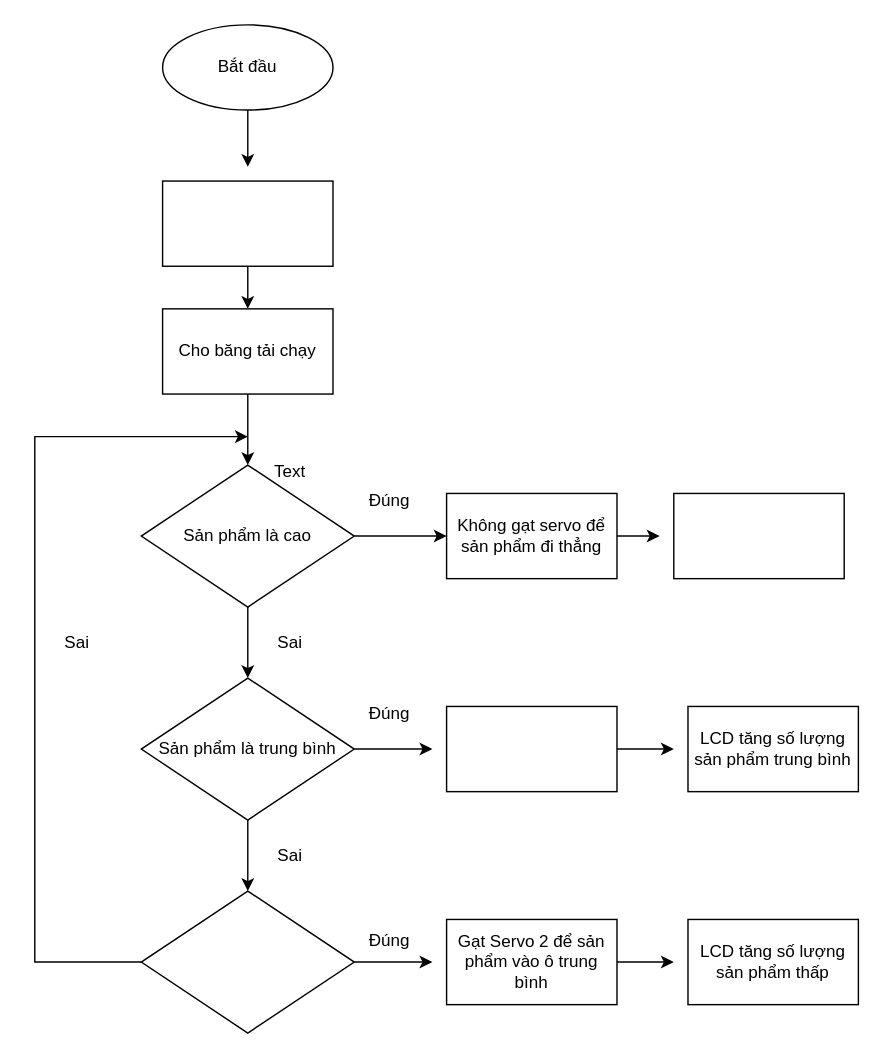
The diagram is 883 pixels wide and 1058 high, and some of its shapes have lost their labels. The shapes that lost their labels are listed below. From the top down, each one's box as (x1, y1, x2, y2) in pixels, then its label:
(161, 180, 333, 266): Khởi tạo các giá trị ban đầu
(672, 492, 844, 579): LCD tăng số lượng sản phẩm cao
(445, 705, 617, 792): Gạt Servo 1 để sản phẩm vào ô trung bình
(140, 890, 354, 1033): Sản phẩm là thấp
